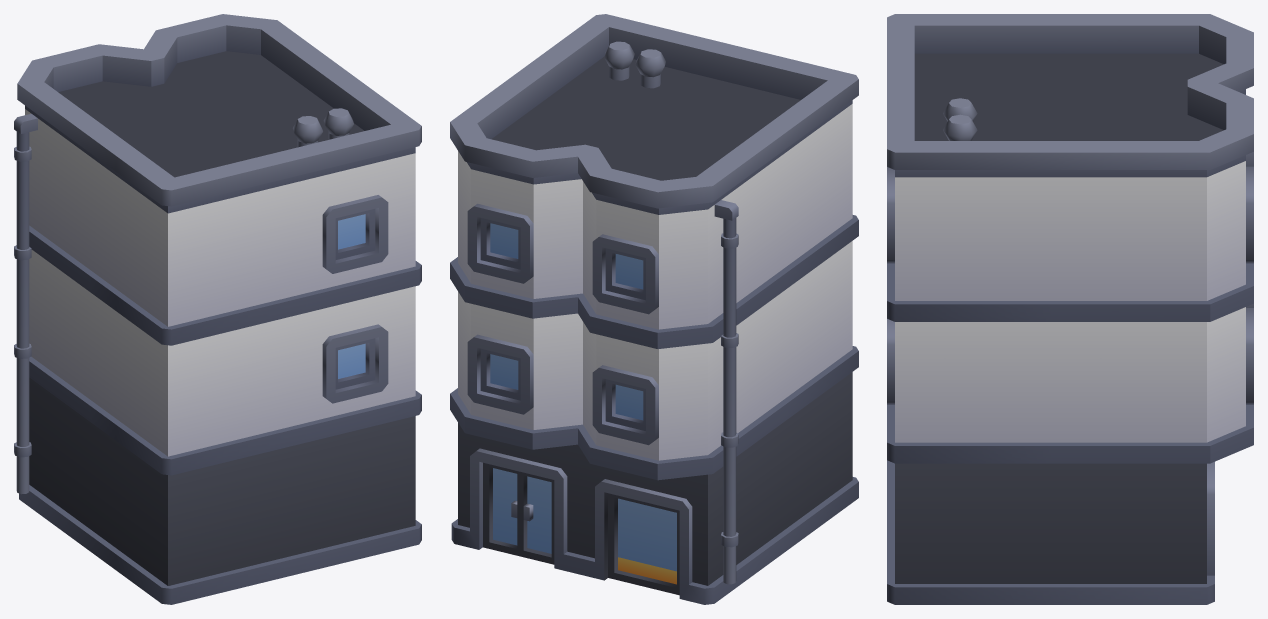
The model's file is building-a.glb.
3 renders of one model, left to right at view 1: azimuth 30°, elevation 25°; view 2: azimuth 150°, elevation 25°; view 3: azimuth 270°, elevation 25°, orthographic. The views are drawn at different scales.
Parts seen in each view (by area): view 1: building-a; view 2: building-a; view 3: building-a.
Part boxes in pixels (box(x1,y1,x2,y2)): building-a: box(14, 14, 421, 604); building-a: box(450, 14, 858, 604); building-a: box(887, 14, 1253, 604).
Bounding box in the file's own units: 0.8837 × 1.29 × 0.9399.
1 material, 1 textured.
